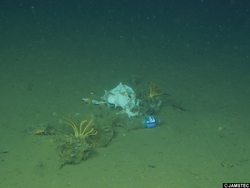plastic bag: (78, 81, 163, 117)
